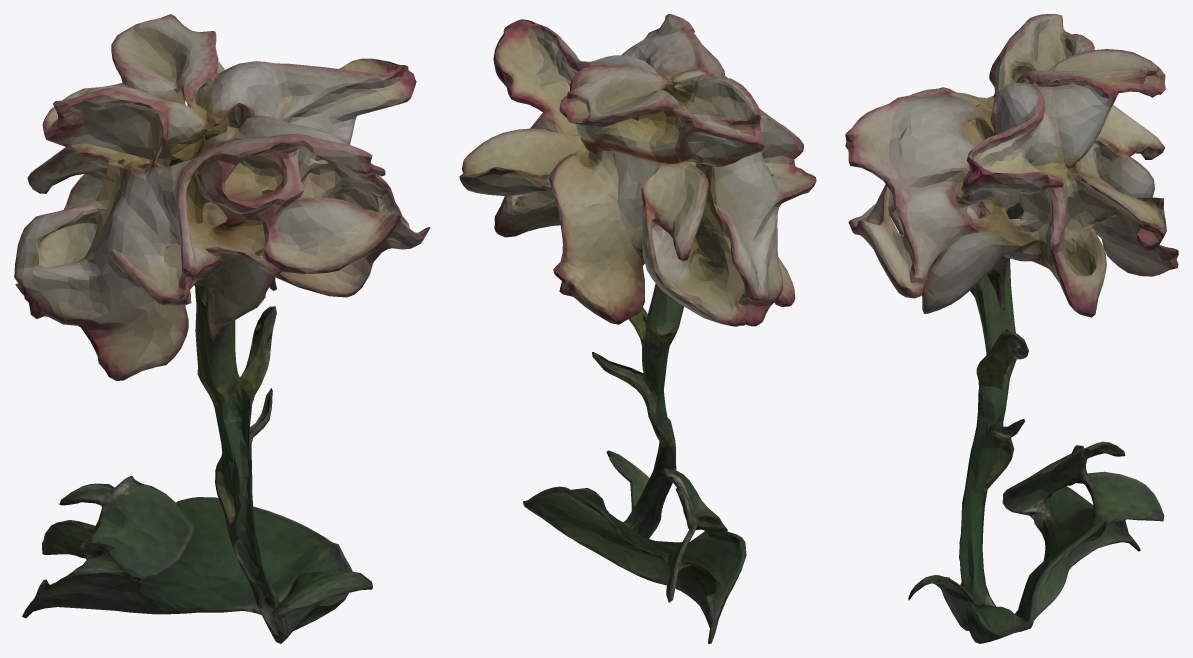
The picture shows the model from 3 angles, left to right: view 1: azimuth 30°, elevation 25°; view 2: azimuth 150°, elevation 25°; view 3: azimuth 270°, elevation 25°; orthographic projection. The views are drawn at different scales.
Parts seen in each view (by area): view 1: world; view 2: world; view 3: world.
Boxes of the visible parts, x1,y1,x2,y2 form: world: [14, 14, 430, 643]; world: [459, 14, 816, 643]; world: [845, 14, 1178, 643].
Size of the model in its own units: 0.5938 by 0.9529 by 0.5244.
1 material, 1 textured.
